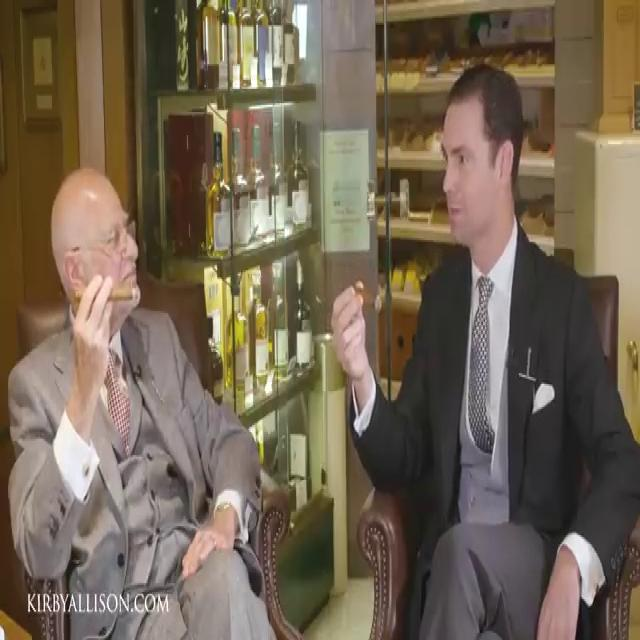Smooking: (72, 282, 146, 315)
